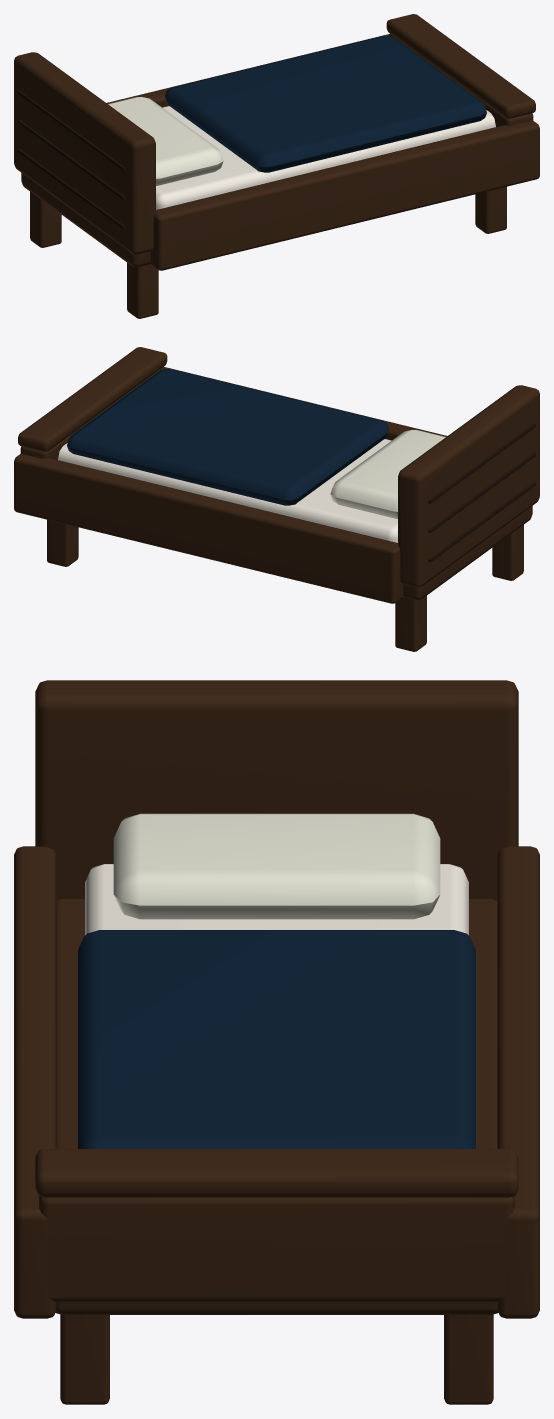
File: Bed.obj
The picture shows the model from 3 angles, top to bottom: view 1: azimuth 30°, elevation 25°; view 2: azimuth 150°, elevation 25°; view 3: azimuth 270°, elevation 25°; orthographic projection. The views are drawn at different scales.
Parts seen in each view (by area): view 1: SM_Bed_Blanket, SM_Bed_Left_Side_Rail, SM_Bed_Headboard, SM_Bed_Mattress, SM_Bed_Footboard_Top_Edge, SM_Bed_Large_Pillow, SM_Bed_Frame, SM_Bed_Leg, SM_Bed_Leg.001, SM_Bed_Leg.002, SM_Bed_Right_Side_Rail, SM_Bed_Footboard (+3 smaller); view 2: SM_Bed_Blanket, SM_Bed_Right_Side_Rail, SM_Bed_Headboard, SM_Bed_Mattress, SM_Bed_Footboard_Top_Edge, SM_Bed_Large_Pillow, SM_Bed_Frame, SM_Bed_Leg.001, SM_Bed_Leg, SM_Bed_Leg.003, SM_Bed_Left_Side_Rail, SM_Bed_Footboard (+3 smaller); view 3: SM_Bed_Blanket, SM_Bed_Headboard, SM_Bed_Footboard, SM_Bed_Large_Pillow, SM_Bed_Footboard_Top_Edge, SM_Bed_Left_Side_Rail, SM_Bed_Right_Side_Rail, SM_Bed_Frame, SM_Bed_Mattress, SM_Bed_Leg.002, SM_Bed_Leg.003.
Boxes of the visible parts, x1,y1,x2,y2 form: SM_Bed_Blanket: (165, 36, 486, 172); SM_Bed_Left_Side_Rail: (150, 121, 539, 270); SM_Bed_Headboard: (14, 52, 155, 254); SM_Bed_Mattress: (156, 106, 495, 209); SM_Bed_Footboard_Top_Edge: (386, 14, 535, 118); SM_Bed_Large_Pillow: (108, 97, 223, 185); SM_Bed_Frame: (21, 173, 150, 266); SM_Bed_Leg: (127, 263, 158, 318); SM_Bed_Leg.001: (30, 191, 61, 247); SM_Bed_Leg.002: (475, 186, 506, 233); SM_Bed_Right_Side_Rail: (106, 34, 389, 107); SM_Bed_Footboard: (389, 33, 533, 126); SM_Bed_Blanket: (67, 369, 388, 505); SM_Bed_Right_Side_Rail: (14, 454, 403, 603); SM_Bed_Headboard: (398, 385, 539, 587); SM_Bed_Mattress: (58, 439, 397, 542); SM_Bed_Footboard_Top_Edge: (18, 347, 167, 451); SM_Bed_Large_Pillow: (330, 430, 445, 518); SM_Bed_Frame: (403, 506, 532, 599); SM_Bed_Leg.001: (395, 596, 426, 651); SM_Bed_Leg: (492, 524, 523, 580); SM_Bed_Leg.003: (47, 519, 78, 566); SM_Bed_Left_Side_Rail: (164, 367, 447, 440); SM_Bed_Footboard: (20, 366, 164, 459); SM_Bed_Blanket: (78, 930, 475, 1148); SM_Bed_Headboard: (35, 680, 518, 900); SM_Bed_Footboard: (39, 1196, 514, 1301); SM_Bed_Large_Pillow: (113, 813, 440, 919); SM_Bed_Footboard_Top_Edge: (35, 1149, 518, 1197); SM_Bed_Left_Side_Rail: (14, 846, 56, 1318); SM_Bed_Right_Side_Rail: (497, 846, 539, 1318); SM_Bed_Frame: (55, 899, 498, 1314); SM_Bed_Mattress: (85, 864, 468, 935); SM_Bed_Leg.002: (60, 1314, 109, 1404); SM_Bed_Leg.003: (444, 1314, 493, 1404).
Bounding box in the file's own units: 2.61 × 1.13 × 1.48.
